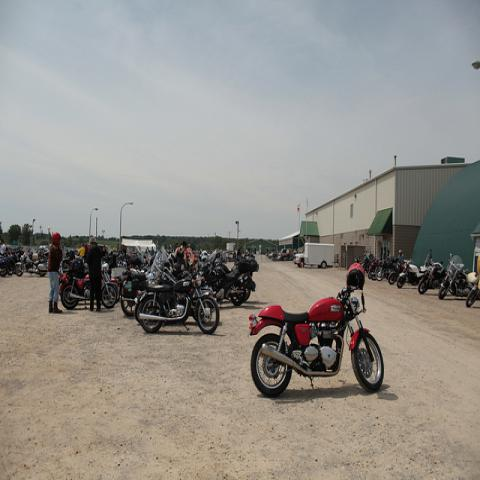motorcycle: (249, 262, 384, 399), (12, 246, 146, 322), (138, 264, 220, 338), (134, 244, 192, 324), (200, 247, 250, 309), (58, 262, 118, 311), (438, 252, 478, 300), (394, 257, 427, 290), (418, 262, 446, 296), (375, 253, 396, 282), (465, 271, 479, 309), (388, 261, 405, 285), (0, 258, 14, 276), (366, 262, 375, 281)
truck: (293, 244, 335, 269)
